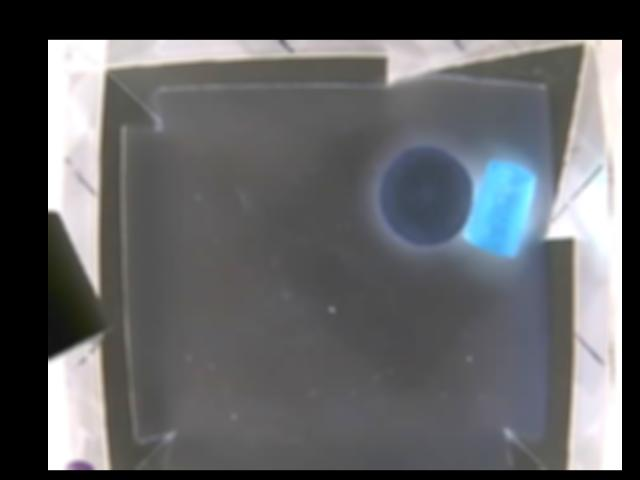Carrot: (464, 158, 534, 258)
Mooli: (381, 144, 474, 246)
